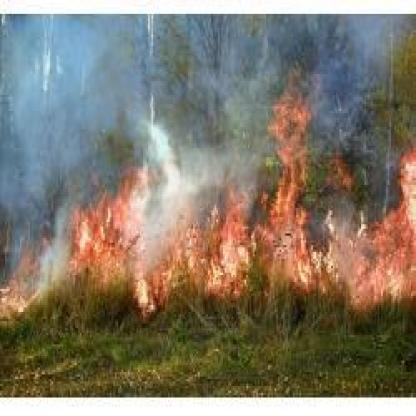fire: (70, 97, 412, 310), (1, 219, 60, 316)
smoke: (0, 16, 264, 178), (299, 16, 409, 164)
